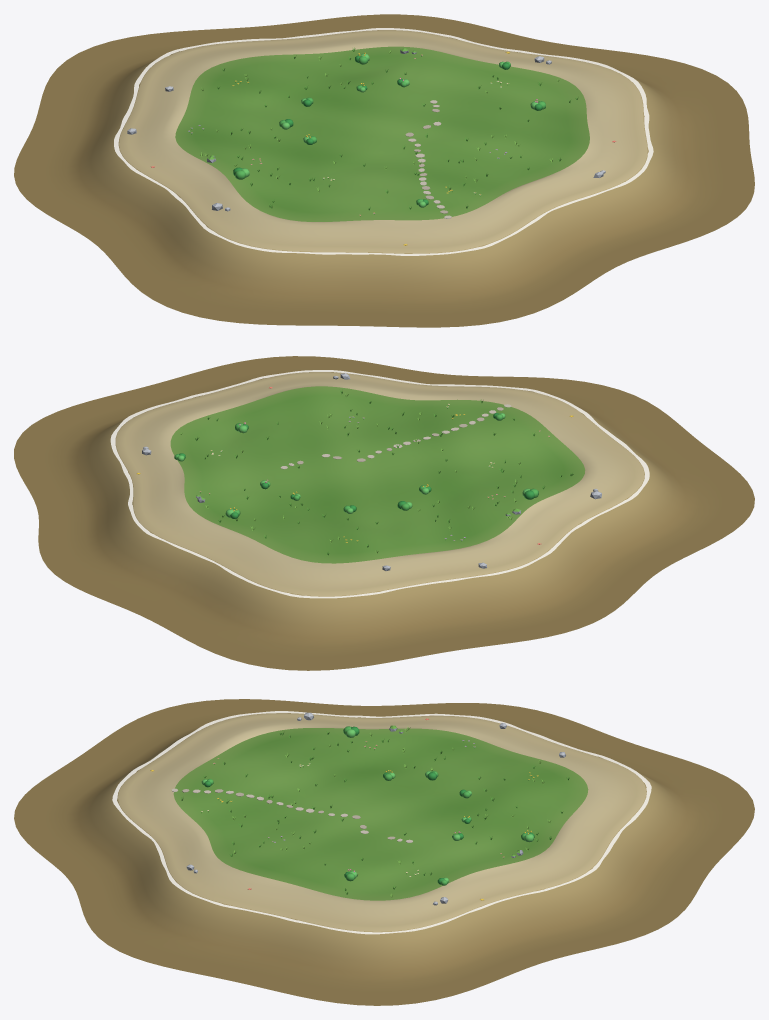
The model's file is terreno.glb.
3 views of the same model, one above another, from view 1: azimuth 30°, elevation 25°; view 2: azimuth 150°, elevation 25°; view 3: azimuth 270°, elevation 25° (orthographic). The views are drawn at different scales.
Parts seen in each view (by area): view 1: chao, espuma, enfeites; view 2: chao, espuma, enfeites; view 3: chao, espuma, enfeites.
Boxes of the visible parts, box(x1,y1,x2,y2) form: chao: box(14, 14, 754, 327); espuma: box(114, 28, 653, 255); enfeites: box(127, 47, 616, 245); chao: box(14, 356, 754, 670); espuma: box(110, 370, 649, 598); enfeites: box(137, 373, 601, 570); chao: box(14, 699, 754, 1005); espuma: box(112, 711, 651, 934); enfeites: box(150, 712, 569, 905).
Bounding box in the file's own units: 85.93 × 5.68 × 87.69.
